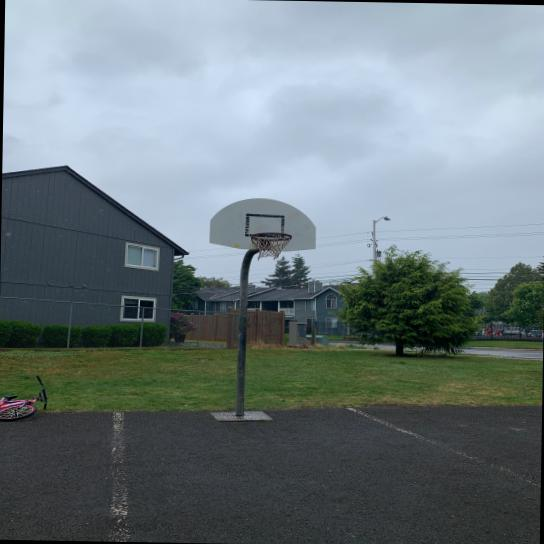basketball-hoop: (248, 231, 294, 261)
